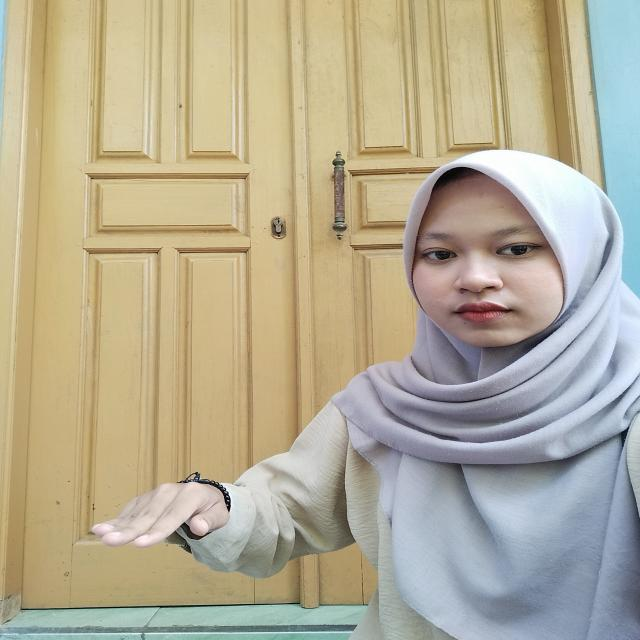adik: (68, 465, 273, 580)
